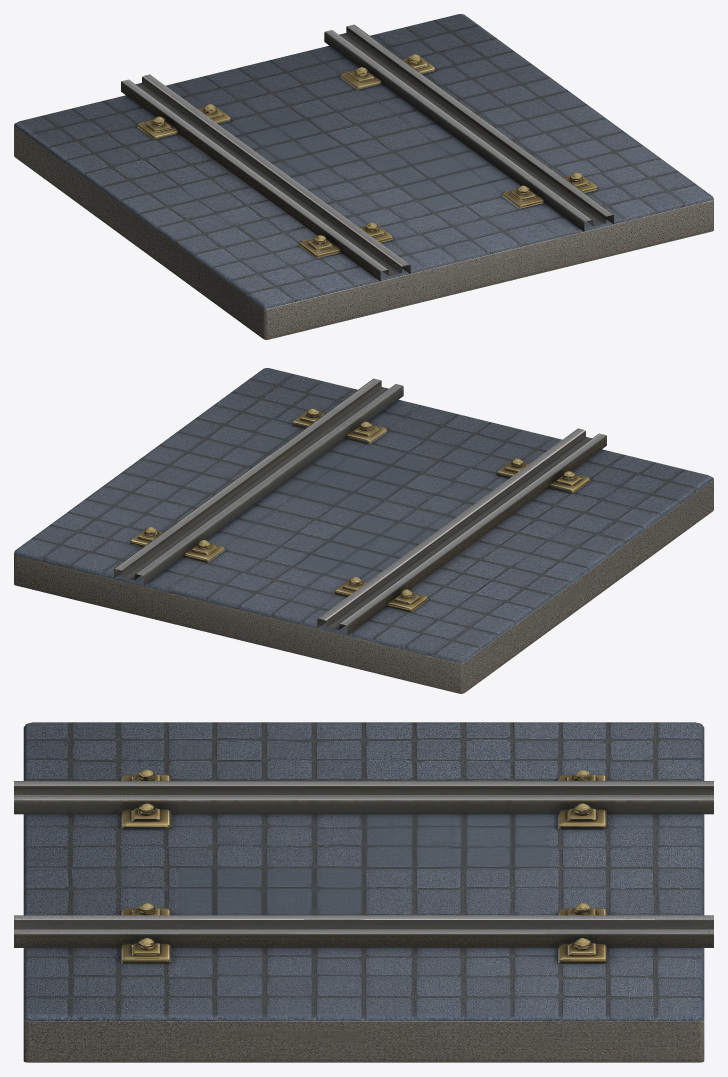
The model's file is tripo_convert_b83aff9d-4cc9-4b8b-b354-d6fa224e2df2.fbx.
The picture shows the model from 3 angles, top to bottom: view 1: azimuth 30°, elevation 25°; view 2: azimuth 150°, elevation 25°; view 3: azimuth 270°, elevation 25°; orthographic projection. The views are drawn at different scales.
Parts seen in each view (by area): view 1: tripo_node_b83aff9d; view 2: tripo_node_b83aff9d; view 3: tripo_node_b83aff9d.
Boxes of the visible parts, x1=… form: tripo_node_b83aff9d: x1=14, y1=14, x2=713, y2=339; tripo_node_b83aff9d: x1=14, y1=368, x2=713, y2=693; tripo_node_b83aff9d: x1=14, y1=722, x2=713, y2=1062.
Bounding box in the file's own units: 0.998 × 0.0996 × 0.998.
1 material, 1 textured.
